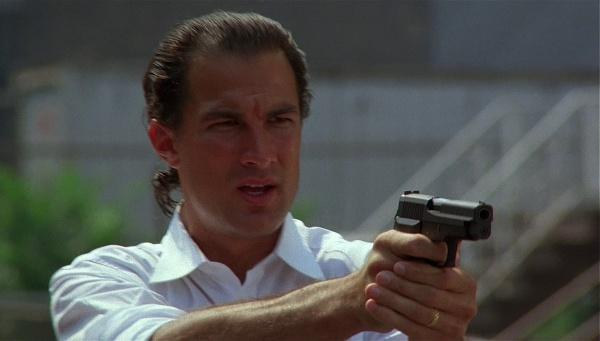Gun: (394, 190, 494, 265)
